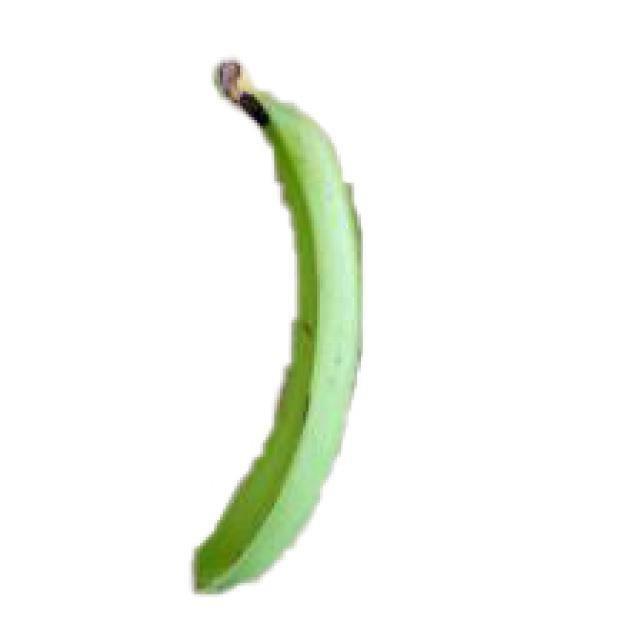fresh-banana: (188, 57, 363, 594)
